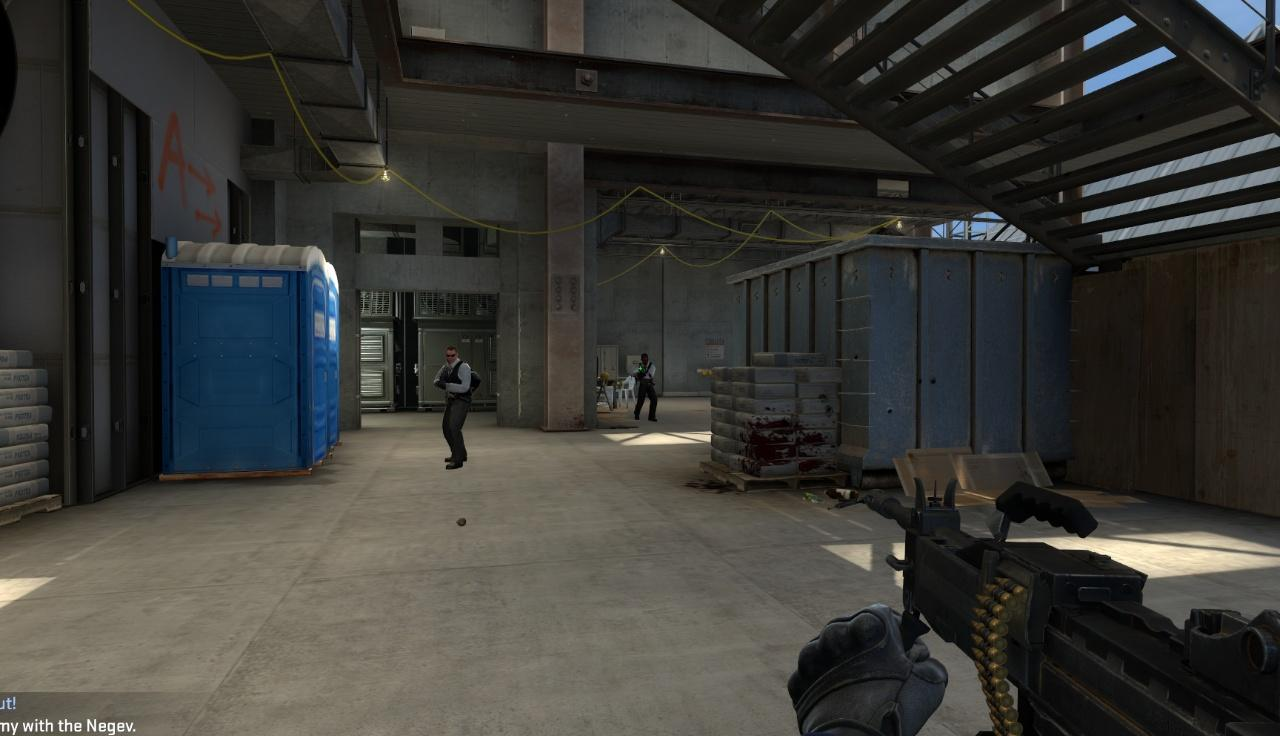rifle: (851, 467, 1280, 736)
tt: (440, 346, 471, 467), (635, 353, 657, 421)
tthead: (444, 347, 458, 363), (641, 354, 648, 364)
